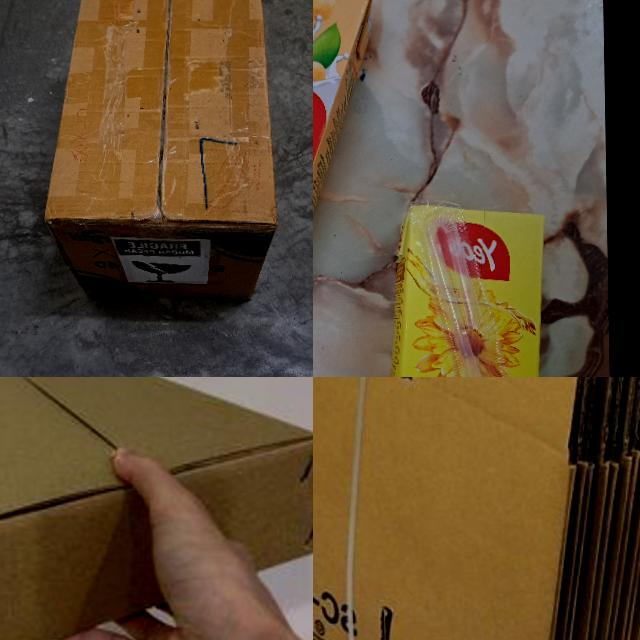caixinha: (376, 201, 553, 377), (313, 0, 377, 284)
papelão: (313, 377, 640, 640), (0, 377, 313, 640), (37, 0, 278, 306)
